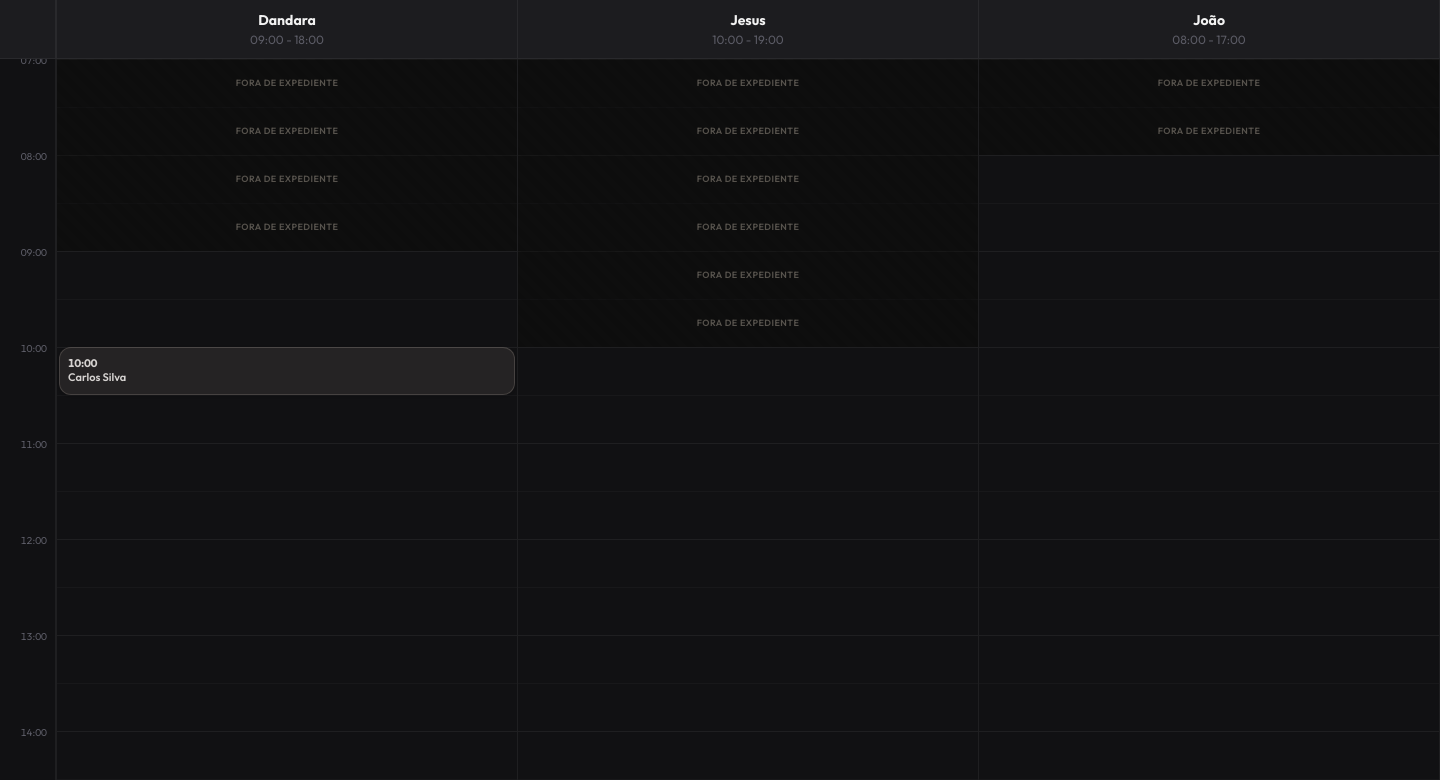
Test: Agenda Appointment Overlay — Stacking & Portal Architecture › A. OVERLAY ACIMA DO HEADER: APPOINTMENT_PANEL > HEADER_STICKY e renderizado fora da árvore interna
This screenshot has width=1440, height=780.
Abre o agendamento
Step 1. Click the text "Carlos Silva" → (97, 377), box [68,370,126,384]
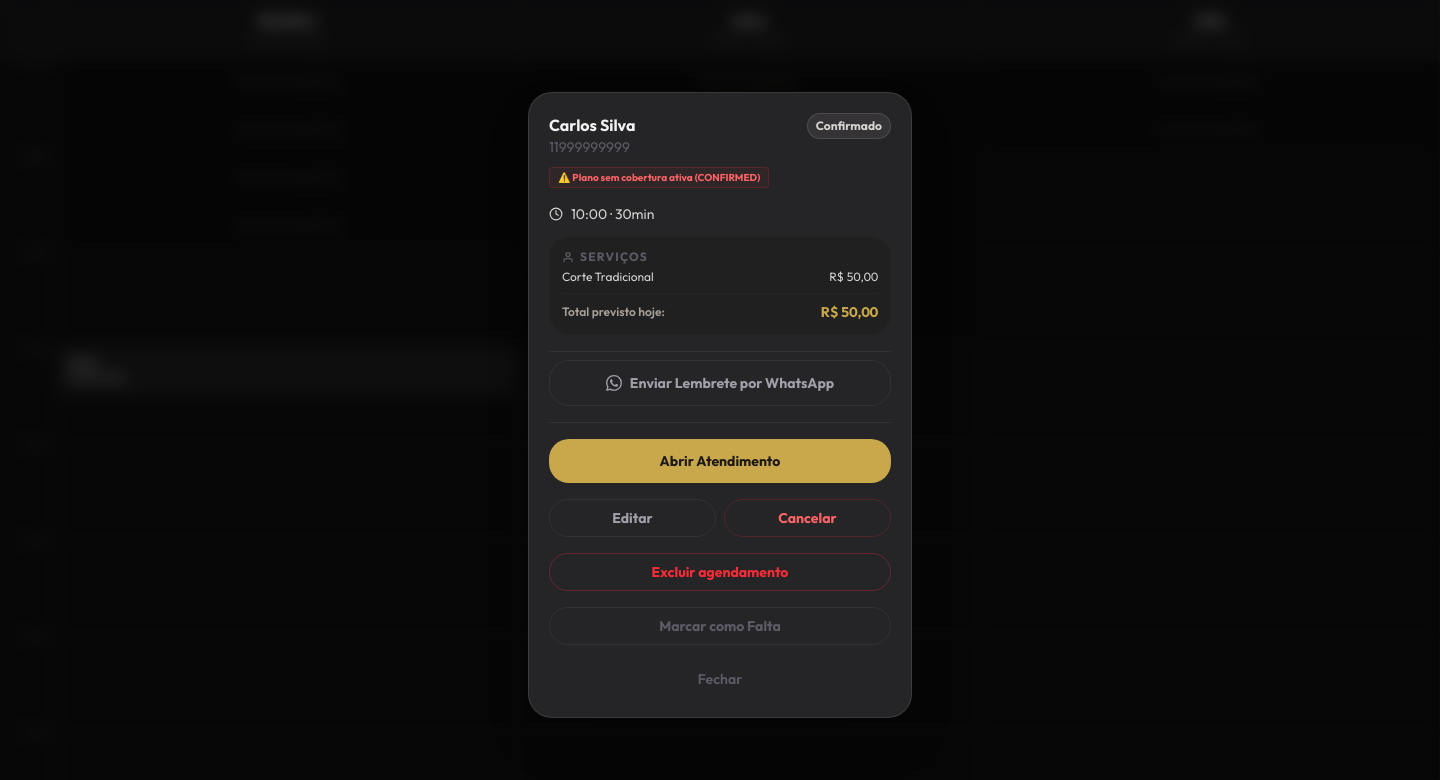
Result: the dialog with test id "appointment-panel" is shown at [528,92,912,718]
